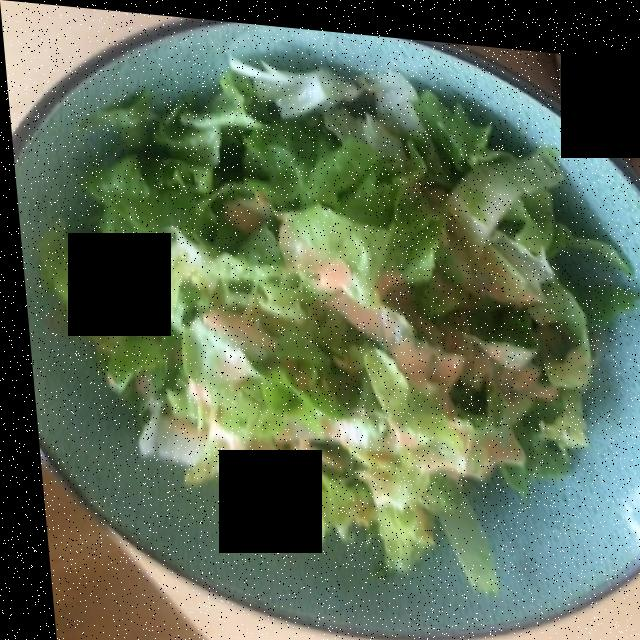french-salad-dressing: (180, 187, 553, 443)
salad-leaf-salad-green: (47, 73, 616, 556)
